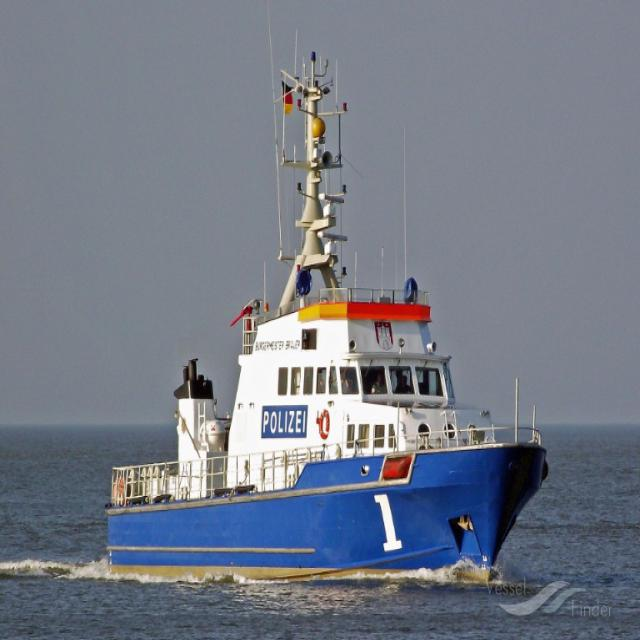OCR: (347, 486, 425, 558)
